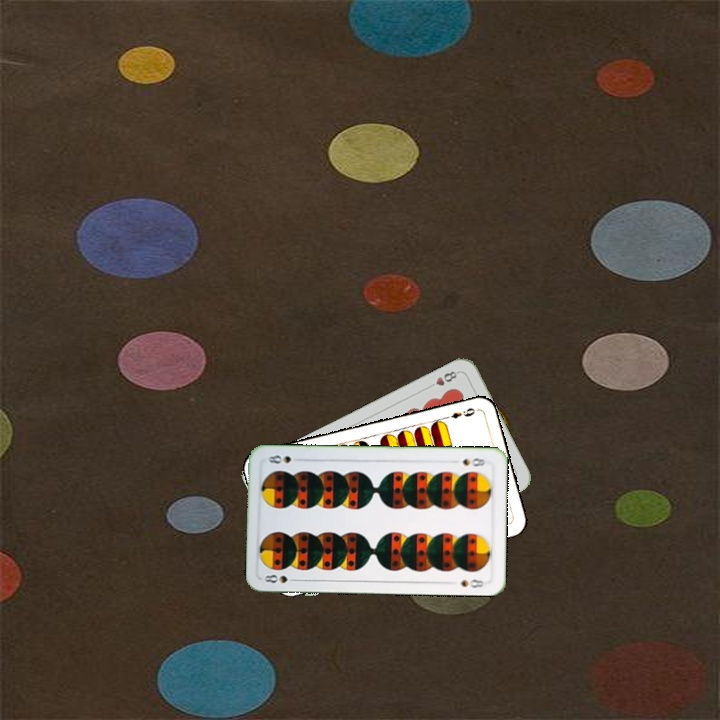E9: (440, 404, 478, 422)
H8: (424, 367, 462, 391)
S8: (260, 571, 301, 586), (459, 454, 488, 469)
